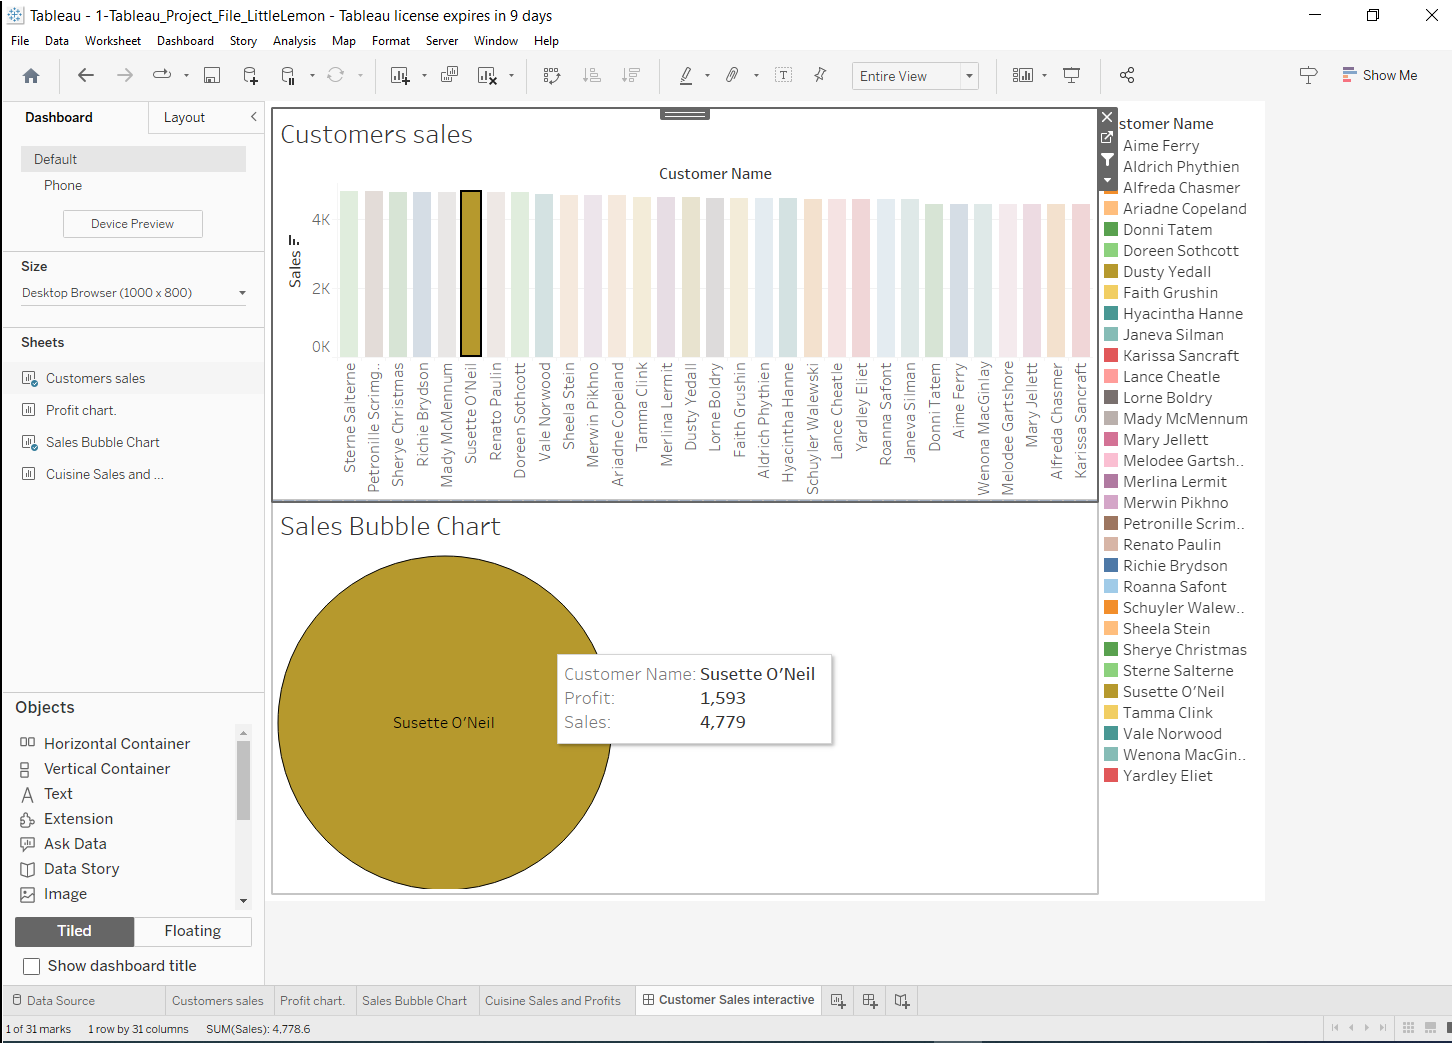

This screenshot's page, from the dashboard's own definition file:
{"tool":"tableau","page":{"name":"Customer Sales interactive","canvas":[1000,800],"ordinal":0},"visuals":[{"type":"worksheet","title":"Customers sales","mark":"Automatic","rows":["Sales"],"cols":["Customer Name"],"box":[8,8,824,392]},{"type":"legend","title":"Customers sales","param":"[federated.19trzmj1g726m01ejoa7o05da4yq].[none:Customer Name:nk]","box":[832,8,160,681]},{"type":"worksheet","title":"Sales Bubble Chart","mark":"Circle","box":[8,400,824,392]}]}

Visuals, with their boxes on the page's 1000x800 design canvas (x1, y1, x2, y2). These are canvas units, not pixel positions in the 1452x1043 screenshot, which may show the page scaled, cropped or inside an application window:
"Customers sales" worksheet: (8, 8, 832, 400)
"Customers sales" legend: (832, 8, 992, 689)
"Sales Bubble Chart" worksheet (Circle marks): (8, 400, 832, 792)
